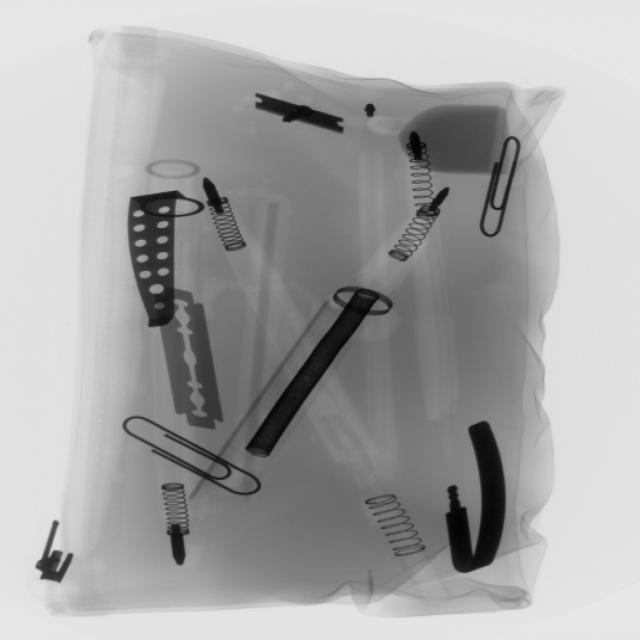BLADE: (153, 281, 228, 442)
